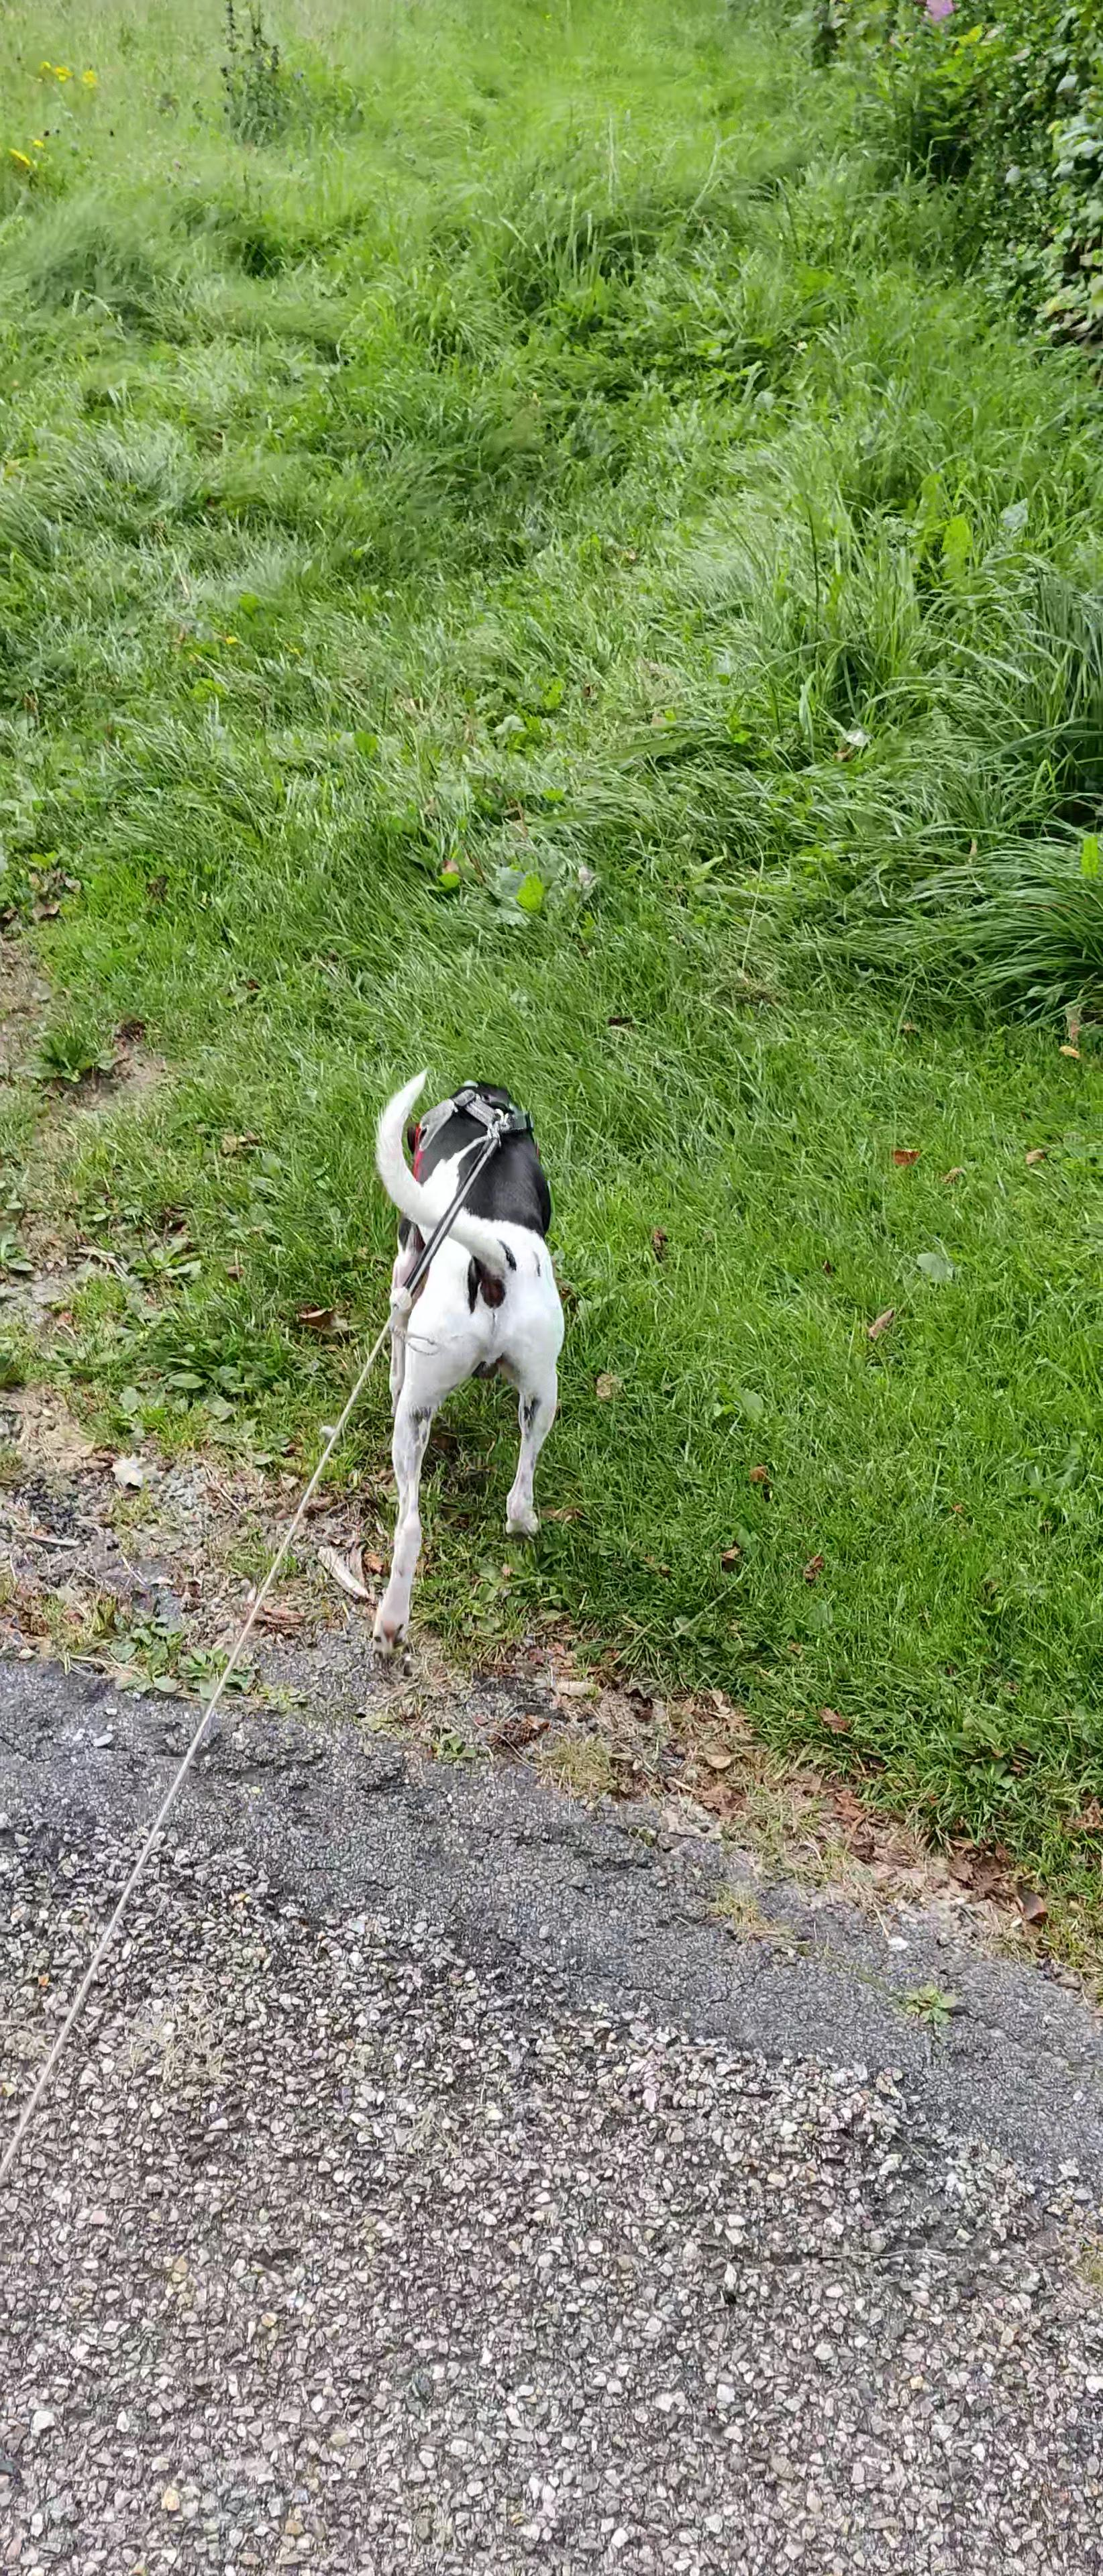Dog: (358, 1061, 580, 1671)
